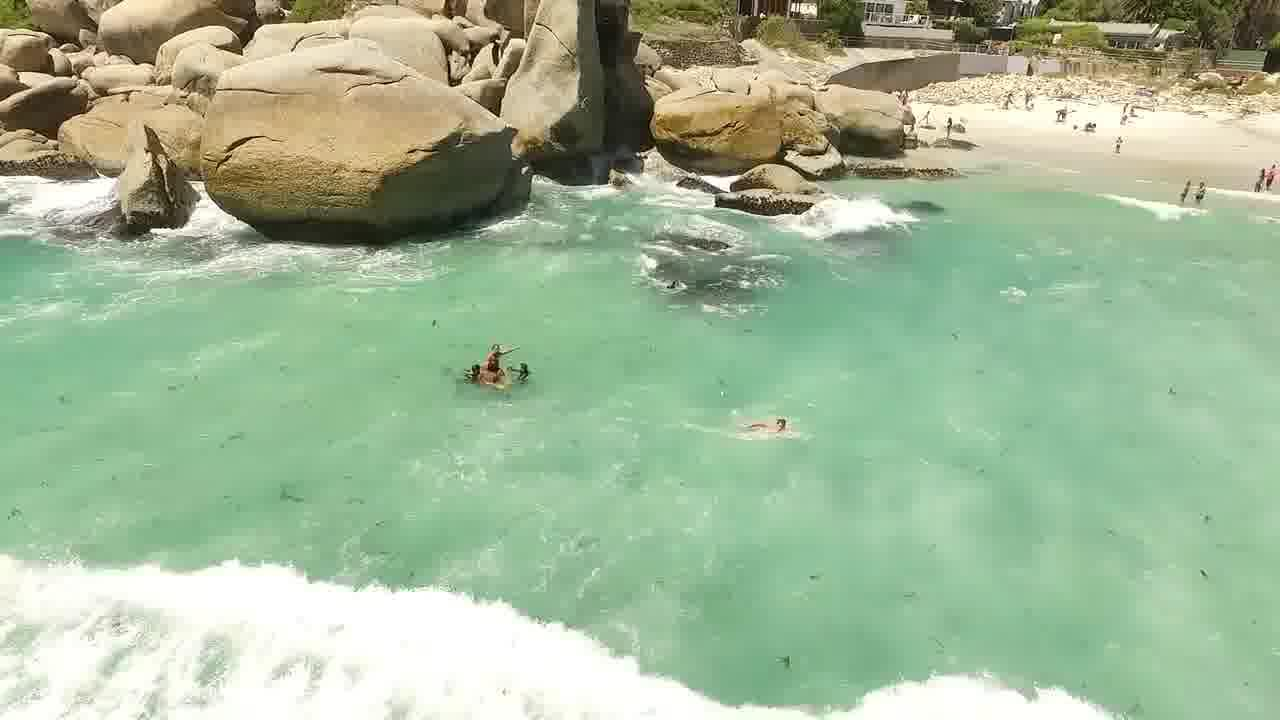swimmer: (733, 406, 802, 453), (457, 360, 510, 393), (509, 356, 552, 394), (477, 337, 521, 368)
